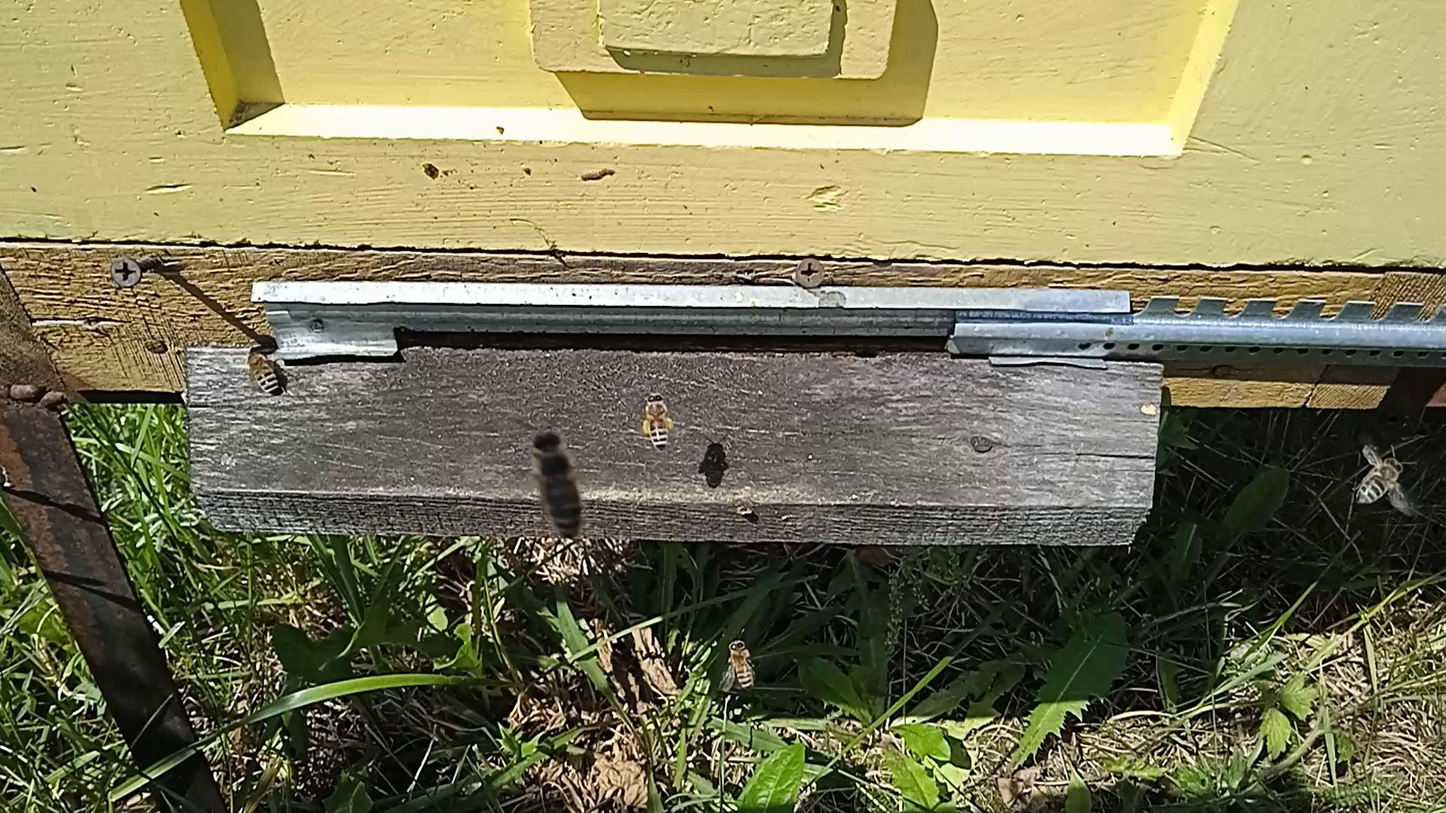worker-bee: (531, 430, 582, 536), (1358, 457, 1402, 504), (640, 392, 675, 451), (246, 346, 284, 397), (727, 638, 757, 690)
